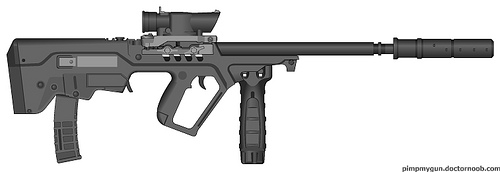rifle: (9, 10, 495, 157)
